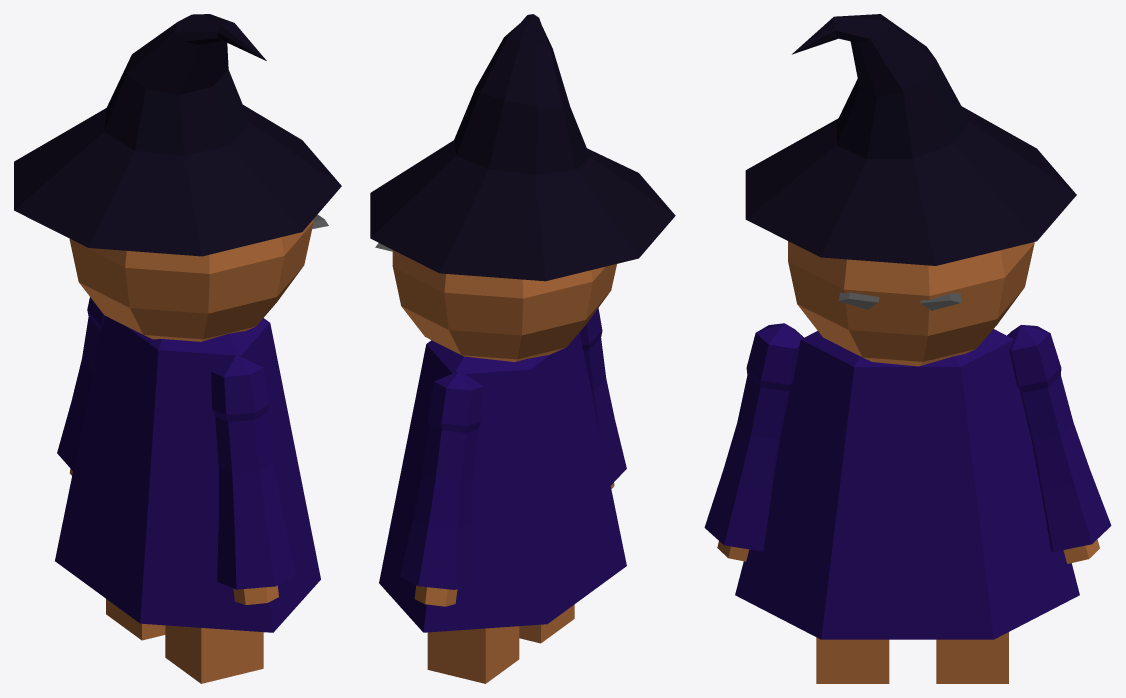
The model's file is gnome.obj.
3 renders of one model, left to right at view 1: azimuth 30°, elevation 25°; view 2: azimuth 150°, elevation 25°; view 3: azimuth 270°, elevation 25°, orthographic. The views are drawn at different scales.
Visible parts, largest first — view 1: Sphere.057, Sphere.058, Sphere.056, Sphere.059, Cube.044, Sphere.060, Cube.041, Cylinder.005; view 2: Sphere.058, Sphere.057, Sphere.056, Sphere.060, Cube.041, Sphere.059, Cube.044, Cylinder.004; view 3: Sphere.057, Sphere.058, Sphere.056, Sphere.059, Sphere.060, Cube.041, Cube.044.
Part boxes in pixels (<box>): Sphere.057: <box>55,315,320,632</box>; Sphere.058: <box>14,14,341,256</box>; Sphere.056: <box>69,220,313,341</box>; Sphere.059: <box>211,355,295,589</box>; Cube.044: <box>165,625,263,683</box>; Sphere.060: <box>57,297,104,470</box>; Cube.041: <box>106,599,165,640</box>; Cylinder.005: <box>233,585,278,604</box>; Sphere.058: <box>370,14,675,281</box>; Sphere.057: <box>379,333,626,632</box>; Sphere.056: <box>392,250,616,361</box>; Sphere.060: <box>400,370,482,589</box>; Cube.041: <box>427,626,519,683</box>; Sphere.059: <box>579,308,626,485</box>; Cube.044: <box>519,604,574,643</box>; Cylinder.004: <box>414,585,457,606</box>; Sphere.057: <box>735,329,1079,639</box>; Sphere.058: <box>745,14,1076,265</box>; Sphere.056: <box>788,241,1034,366</box>; Sphere.059: <box>704,323,803,551</box>; Sphere.060: <box>1007,325,1111,551</box>; Cube.041: <box>936,632,1008,683</box>; Cube.044: <box>816,637,889,683</box>.
Size of the model in its own units: 0.2391 by 0.5125 by 0.2893.
